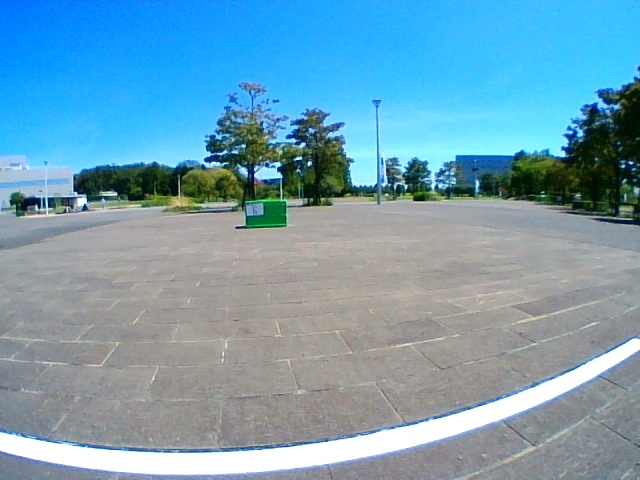green_box: (245, 200, 287, 228)
tag: (247, 203, 263, 215)
